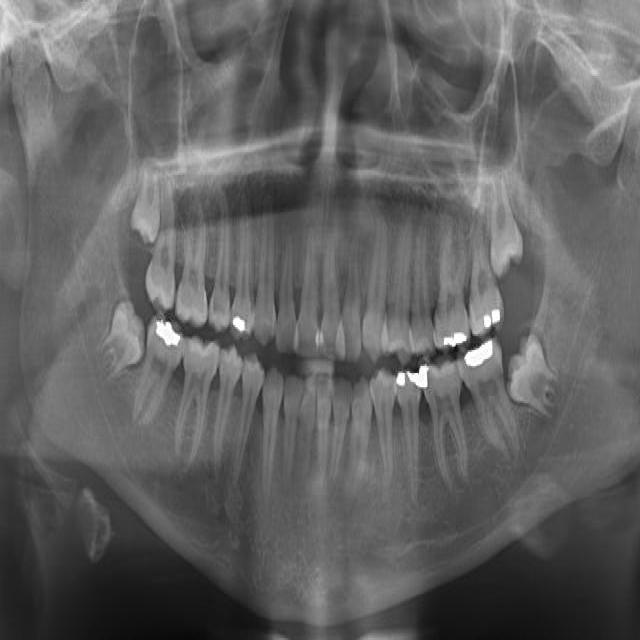dolgu: (458, 330, 499, 377), (149, 314, 181, 371), (398, 360, 432, 409), (471, 286, 505, 334), (439, 313, 471, 356), (232, 292, 254, 339)
